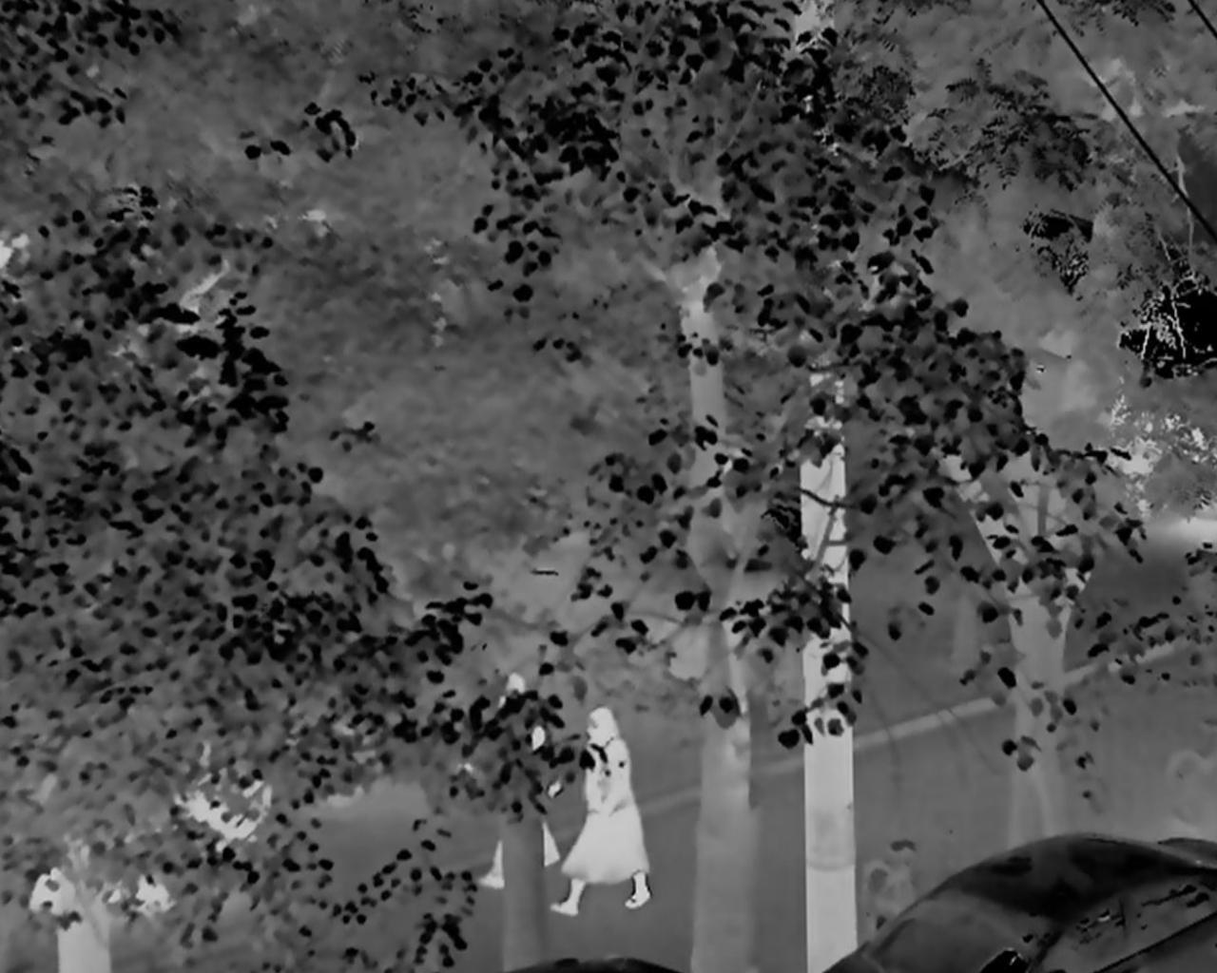person: (563, 707, 656, 921), (486, 672, 560, 896)
